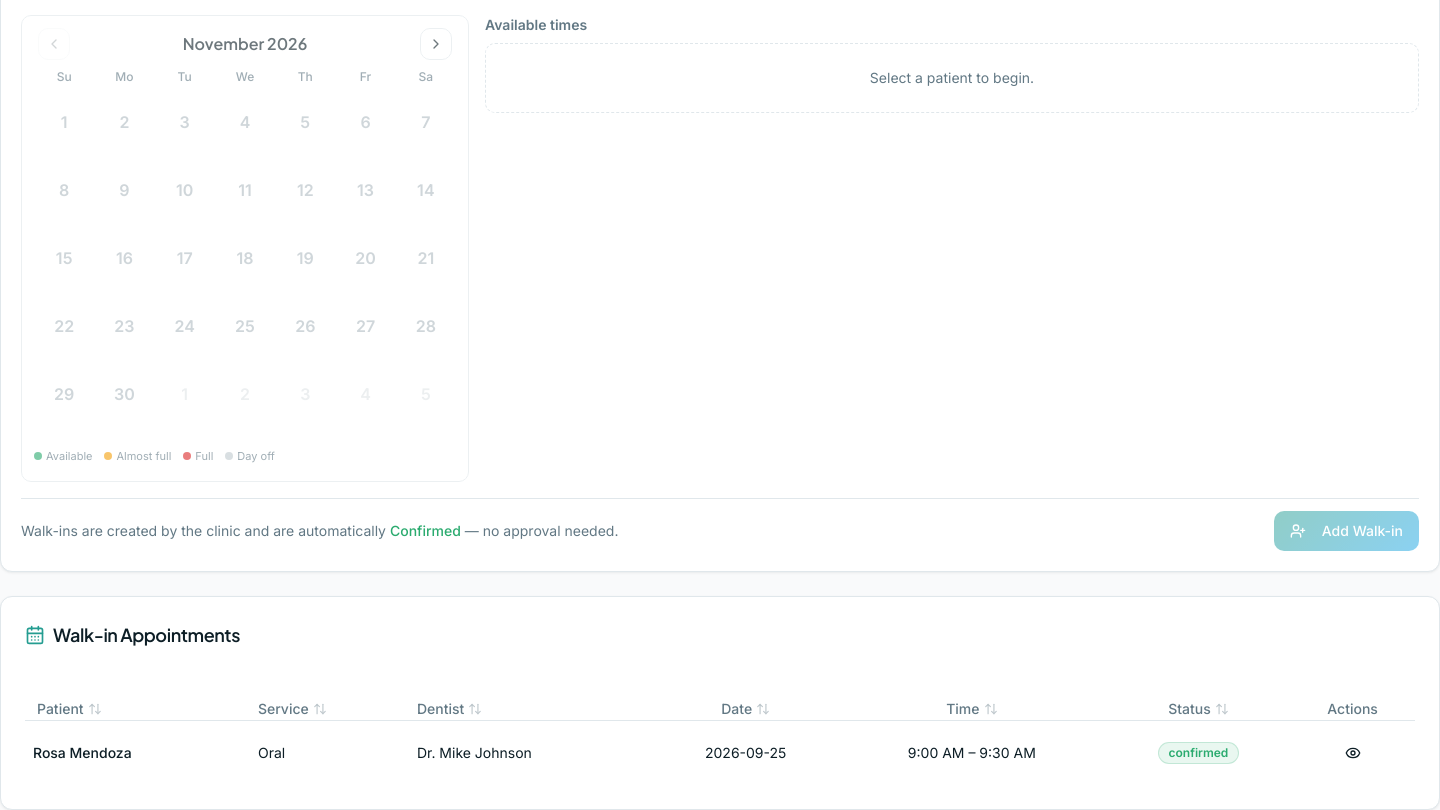
Scenario: what the walk-in list lets you do › shows the appointment's details behind it
(page scrolled)
Expected: the text "Rosa Mendoza" is shown, top-left (25, 720), bottom-right (250, 785)
Click the button named "View details".
click(1352, 753)  # box top-left (1336, 737), bottom-right (1368, 769)
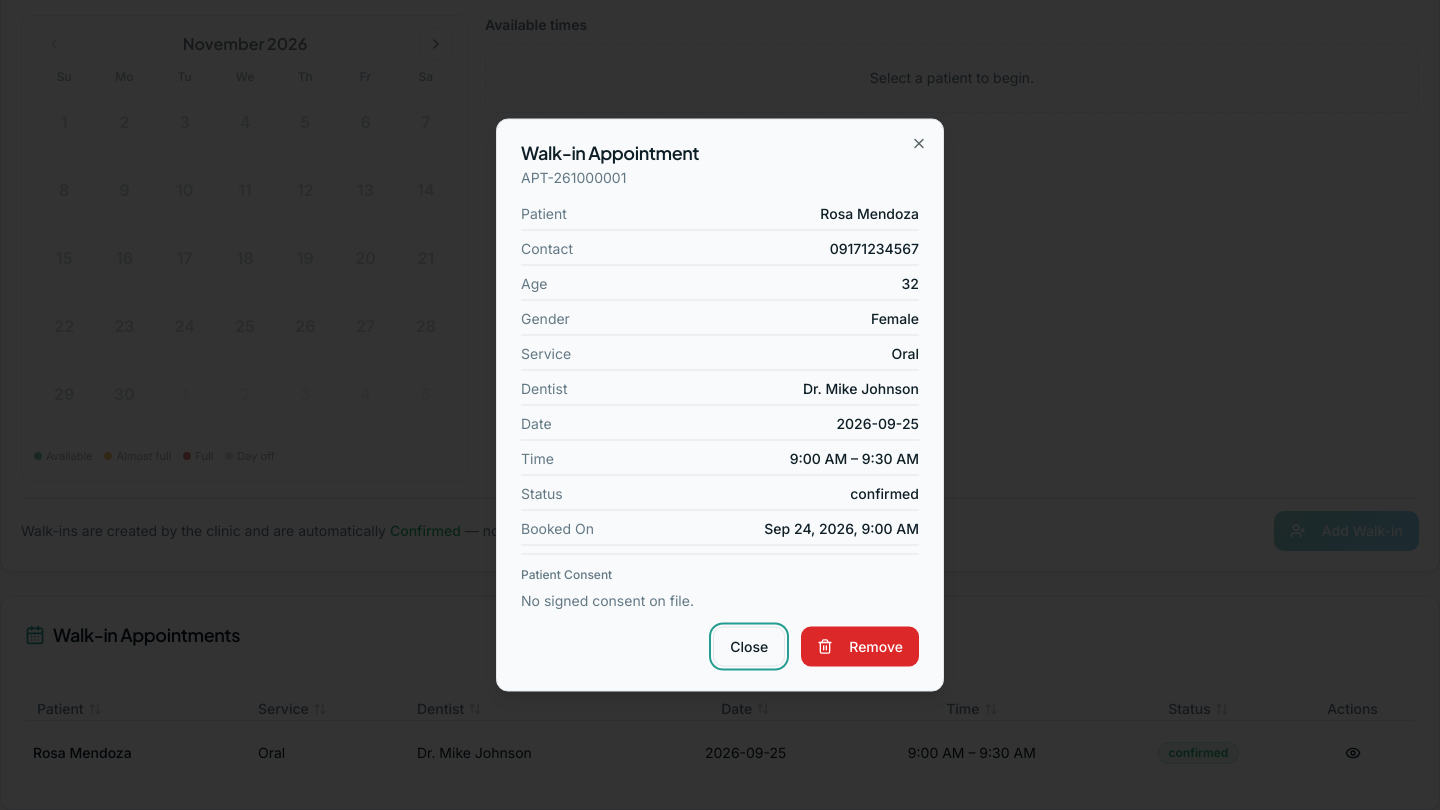
Now the heading "Walk-in Appointment" is shown, box top-left (521, 140), bottom-right (699, 164)
Now the text "APT-261000001" is shown, box top-left (521, 168), bottom-right (626, 186)
Now the text "09171234567" is shown, box top-left (830, 238), bottom-right (919, 258)
